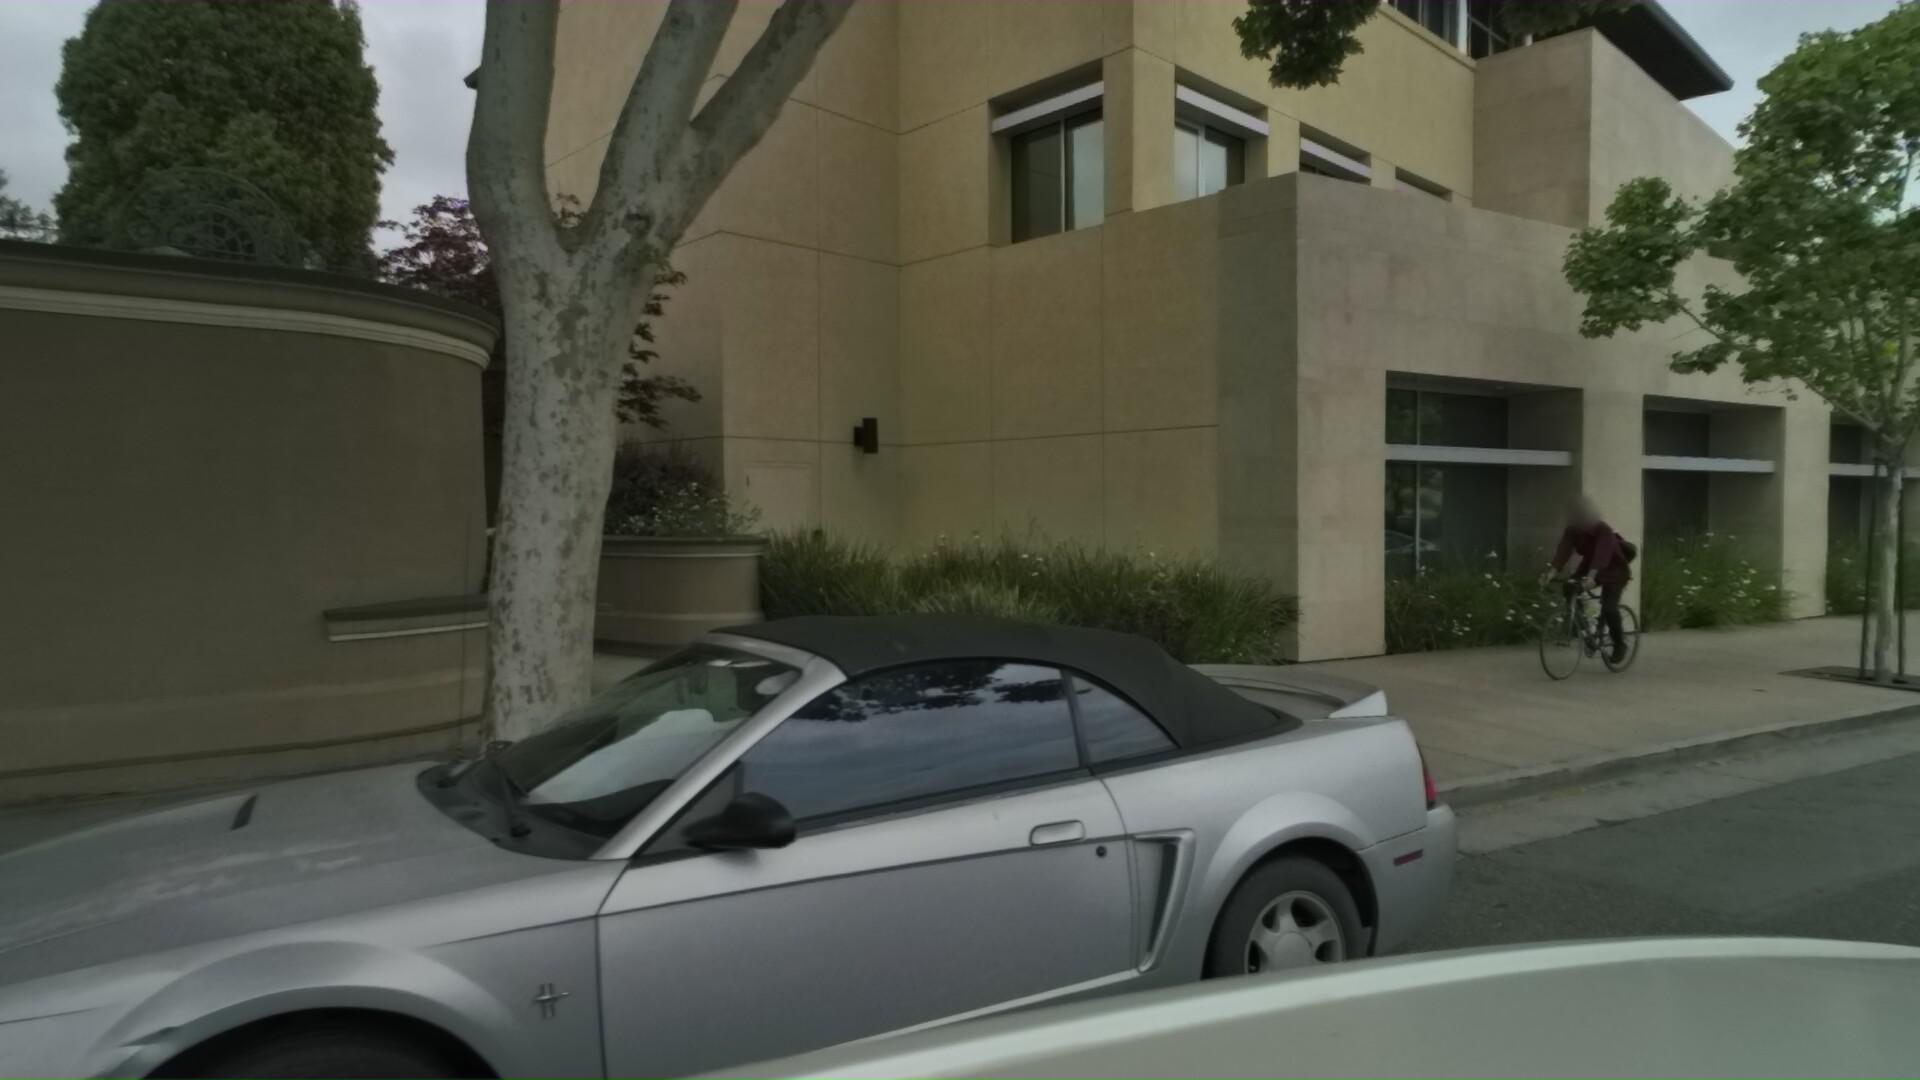bicycle: (1515, 477, 1700, 682)
car: (0, 564, 1664, 1080)
